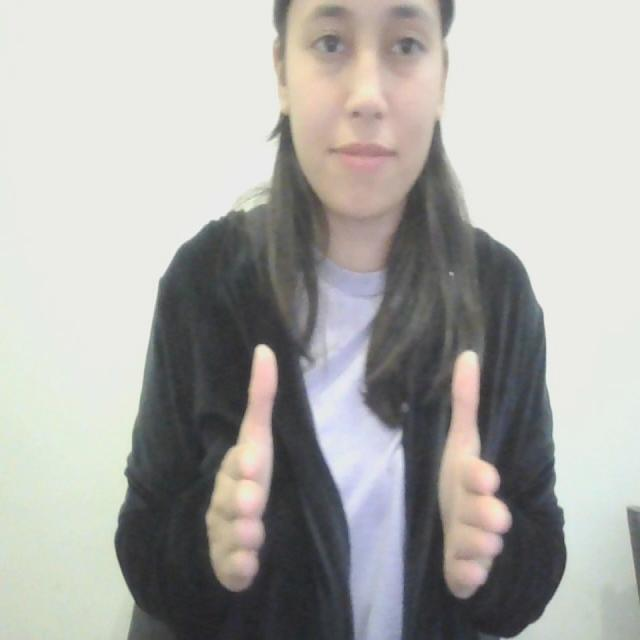Nasil: (196, 317, 526, 618)
